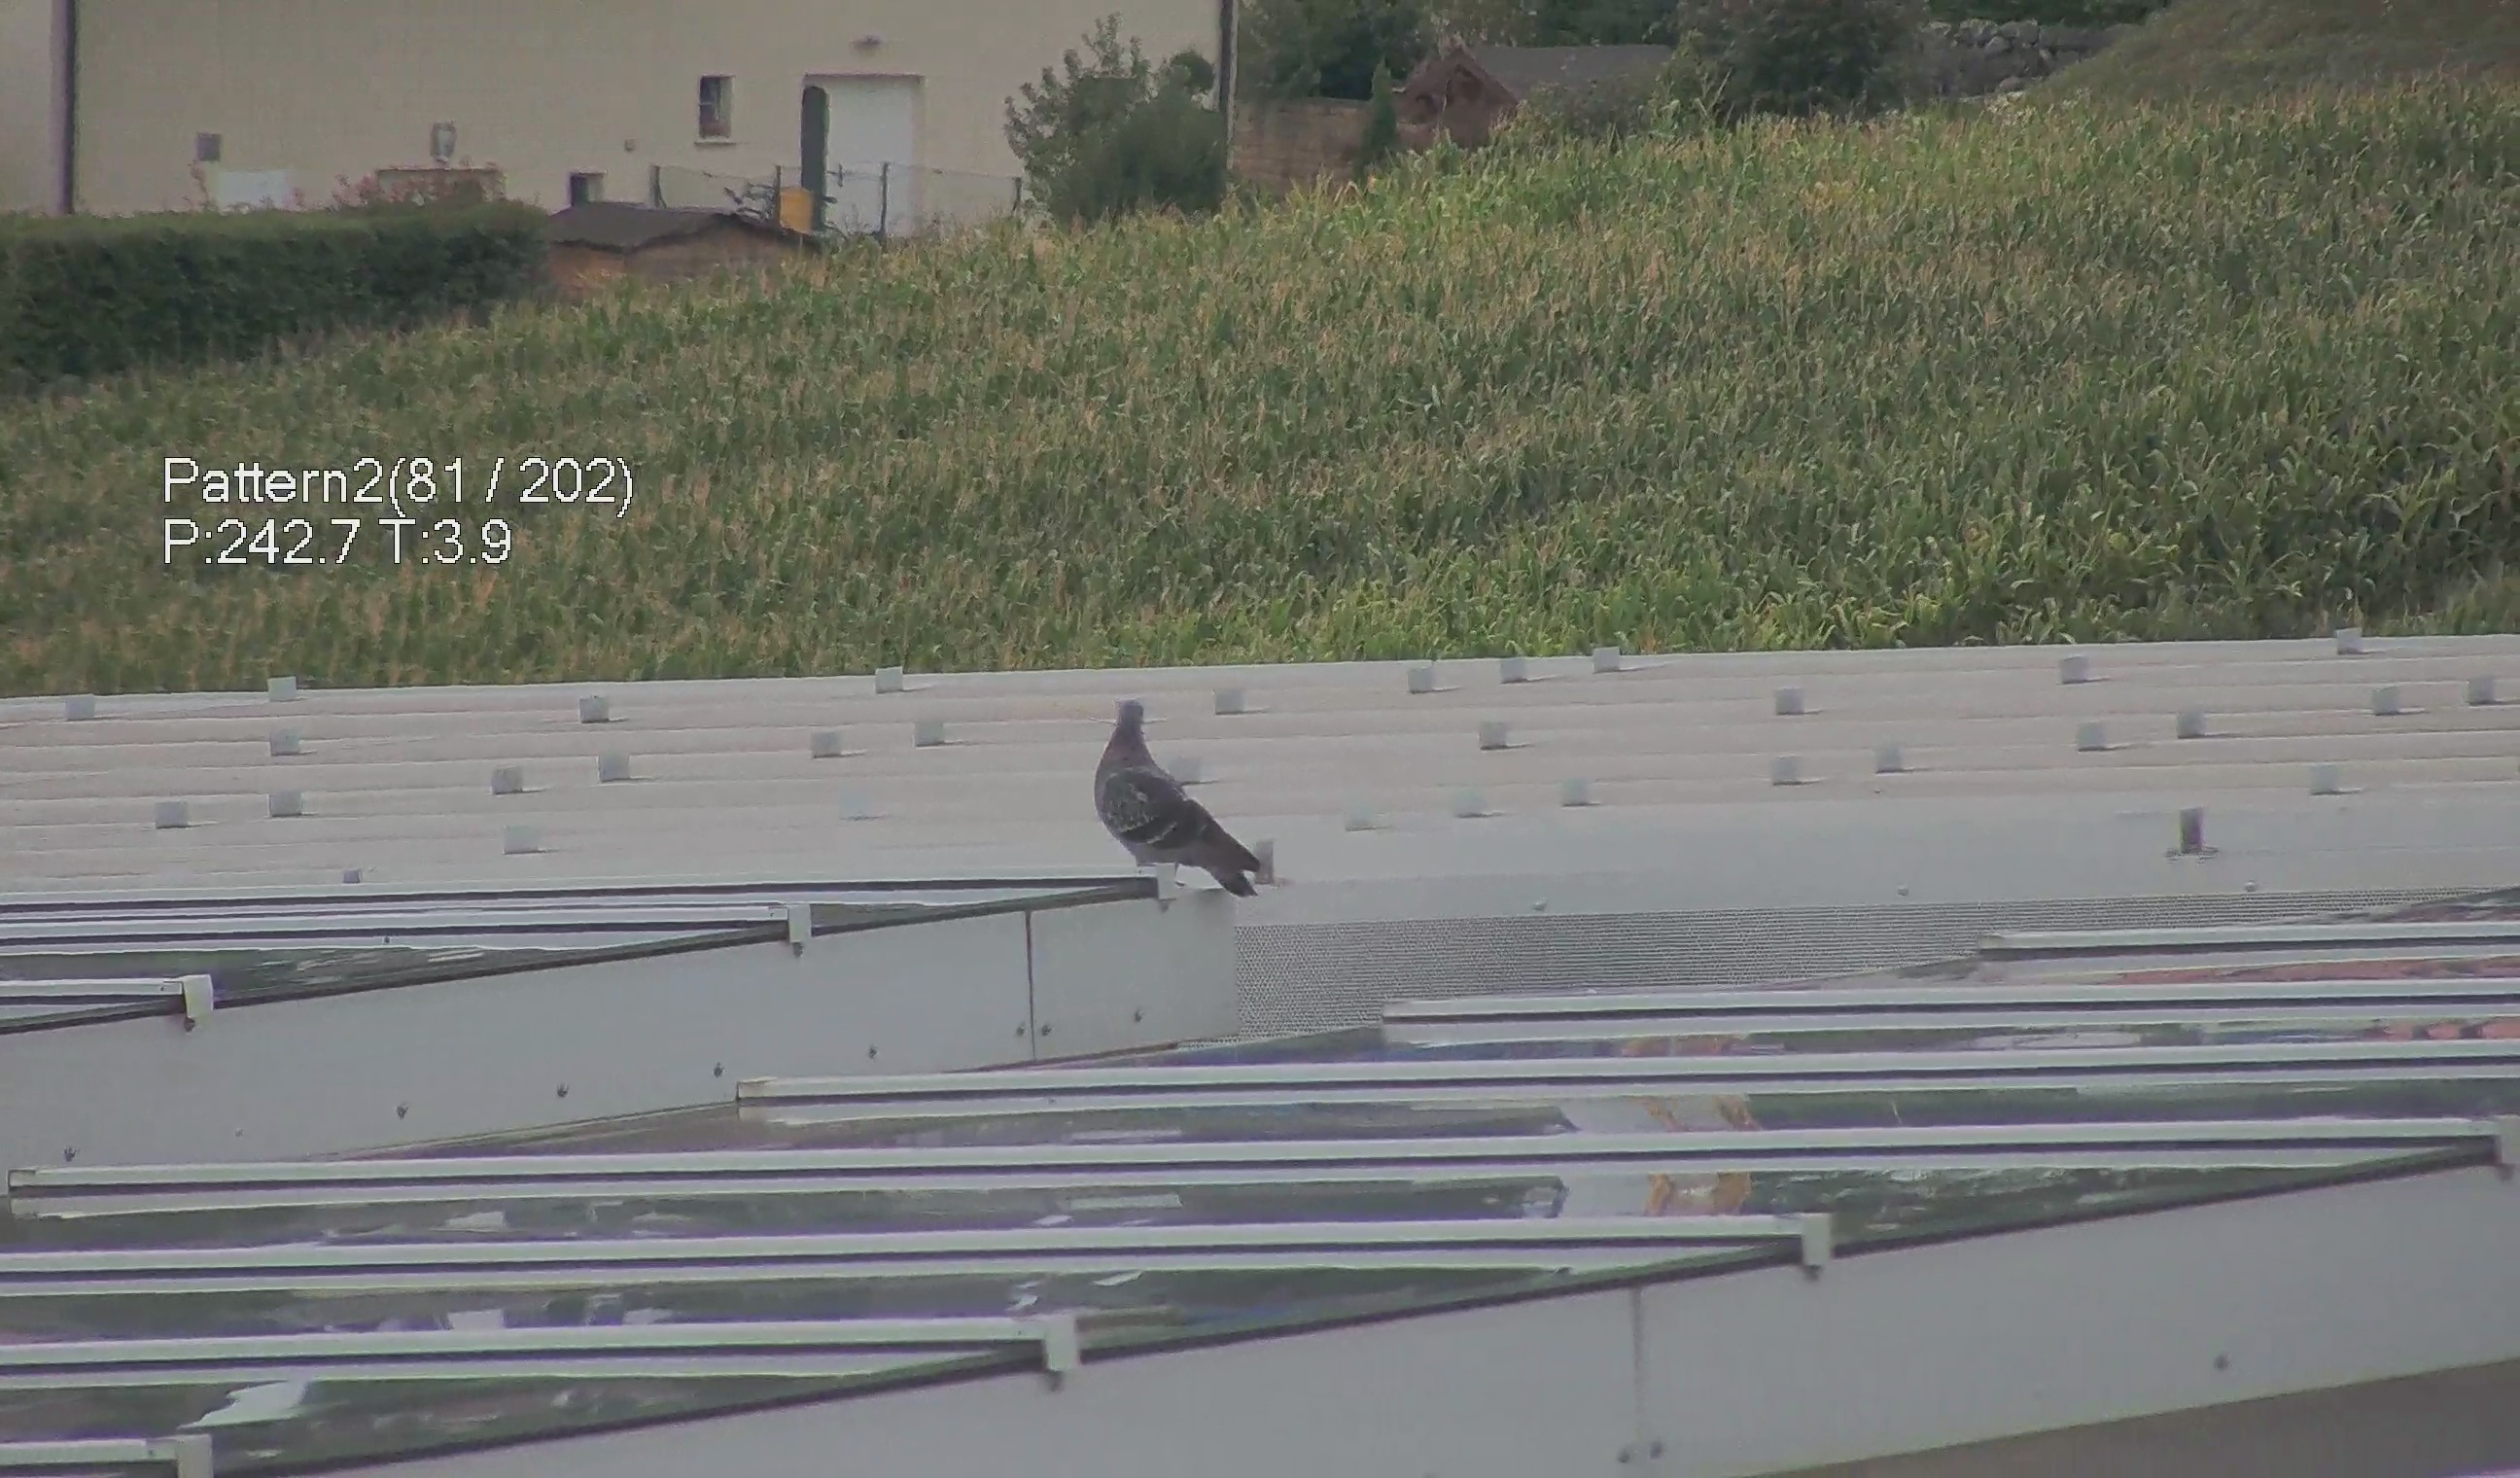Pigeon: (1071, 691, 1263, 920)
